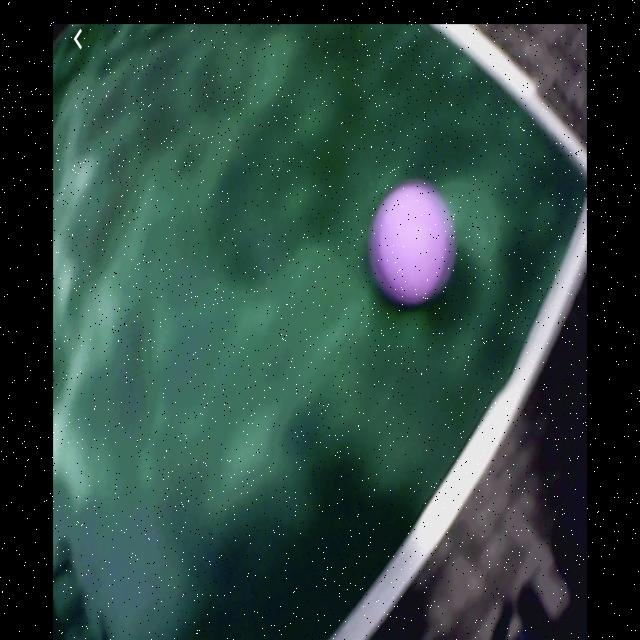ball: (371, 180, 456, 305)
